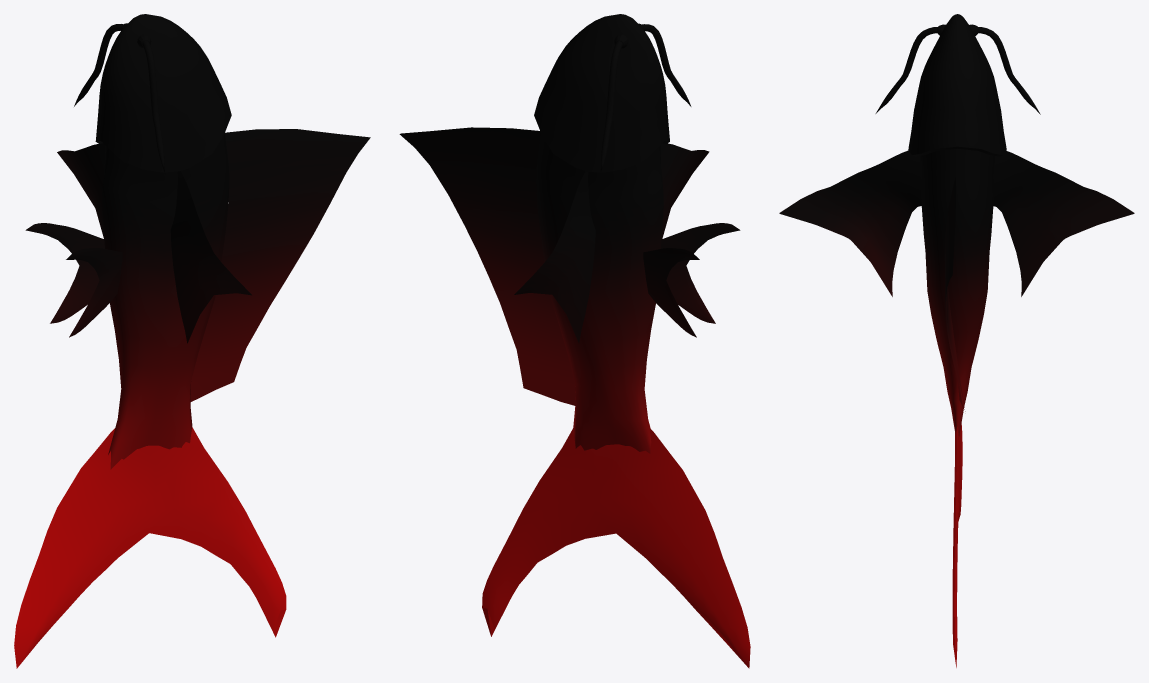
Rendered from Char_KoiFish_01.fbx.
3 renders of one model, left to right at view 1: azimuth 30°, elevation 25°; view 2: azimuth 150°, elevation 25°; view 3: azimuth 270°, elevation 25°, orthographic. The views are drawn at different scales.
Parts seen in each view (by area): view 1: Line001; view 2: Line001; view 3: Line001.
Boxes of the visible parts, left/top/right/bottom form: Line001: left=14, top=14, right=370, bottom=668; Line001: left=399, top=14, right=750, bottom=668; Line001: left=779, top=14, right=1134, bottom=667.
Bounding box in the file's own units: 554 × 982 × 531.
